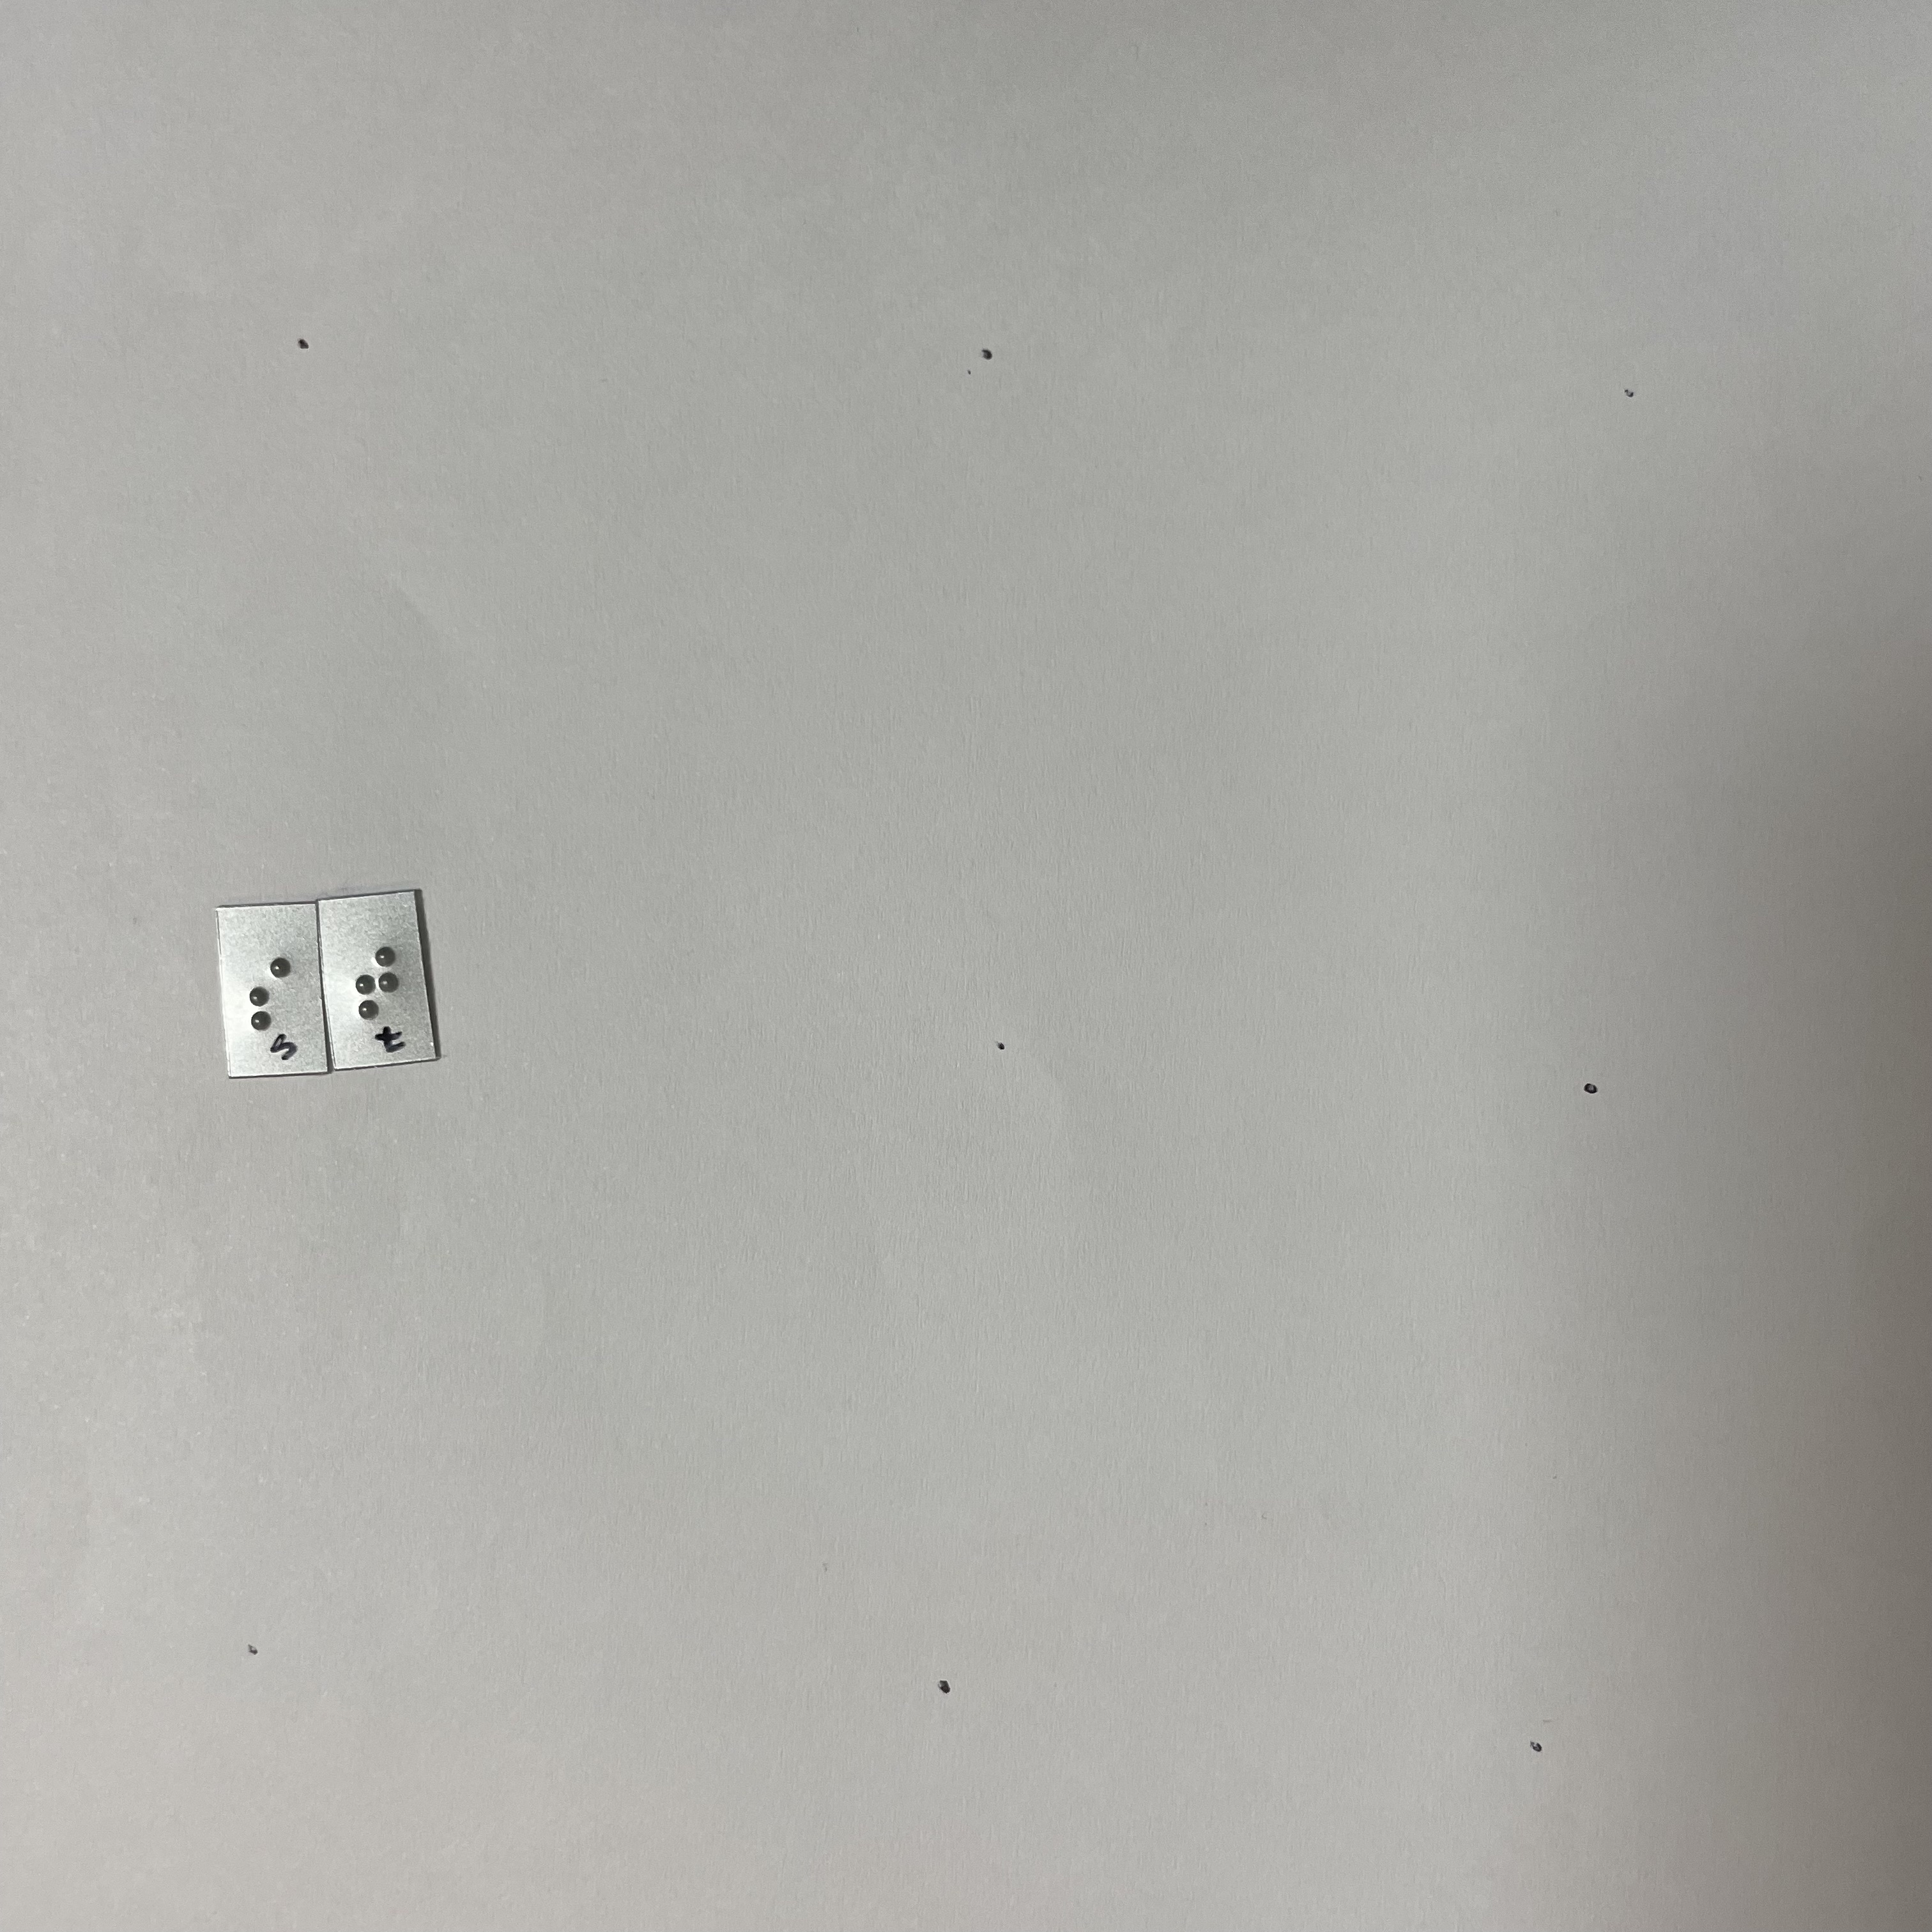s: (239, 951, 301, 1034)
t: (346, 937, 402, 1030)
